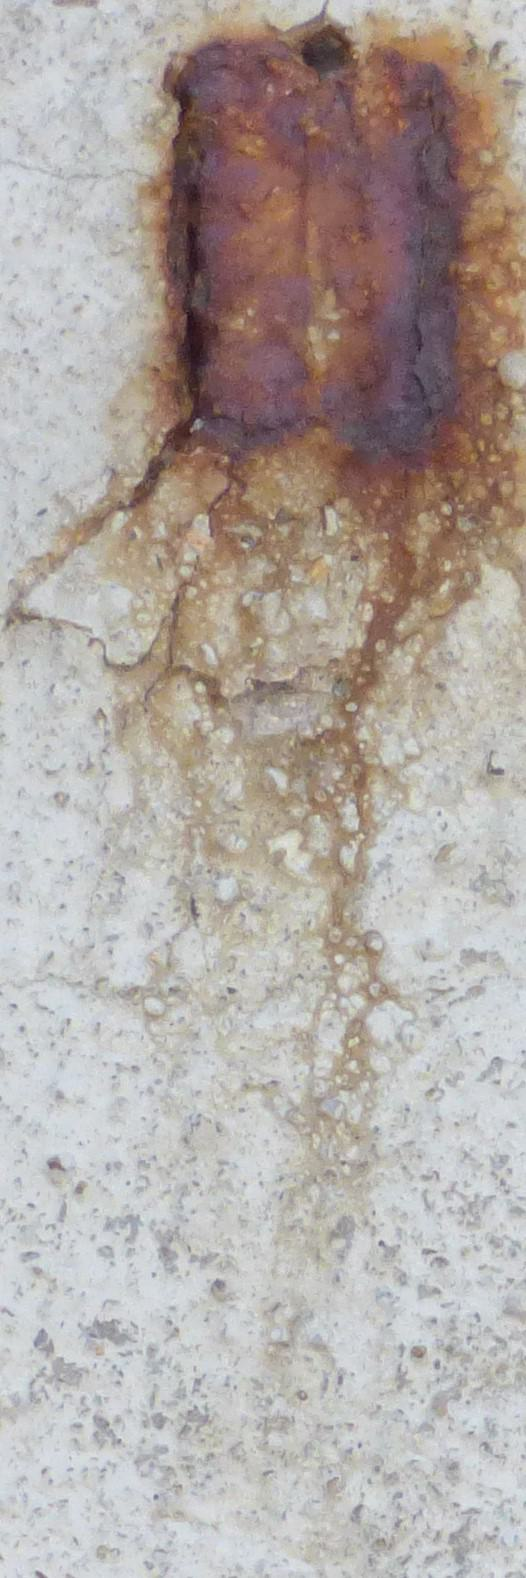Corrosion: (1, 12, 526, 587), (130, 587, 474, 1287)
